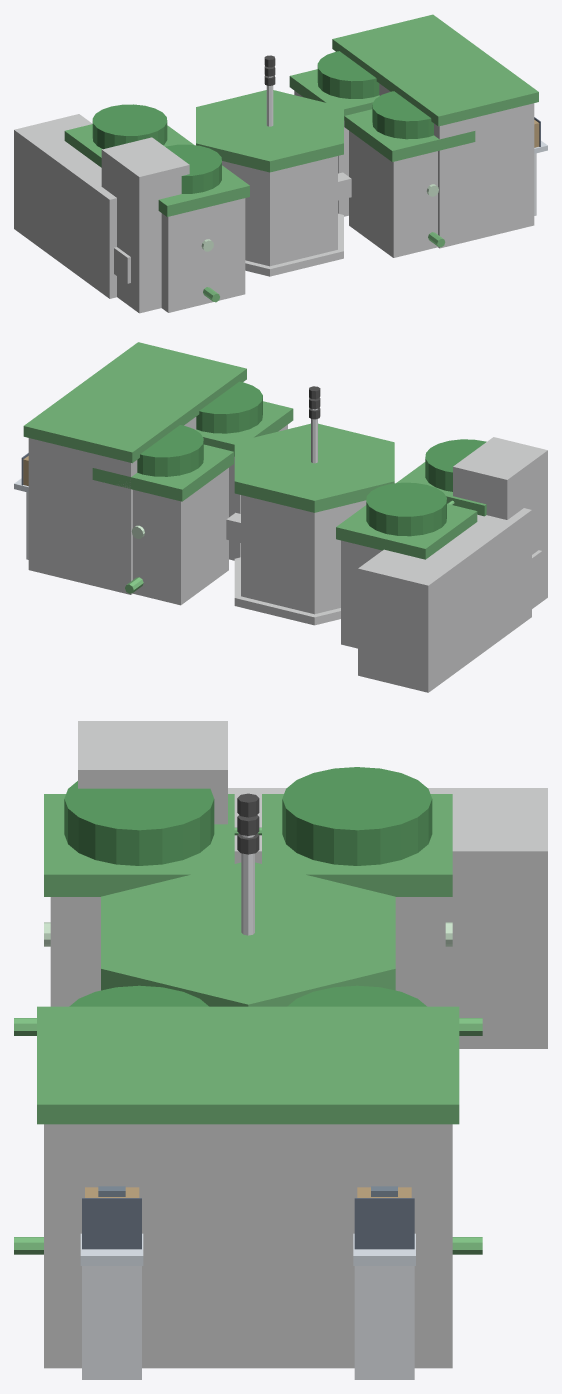
The model's file is CVD.glb.
The picture shows the model from 3 angles, top to bottom: view 1: azimuth 30°, elevation 25°; view 2: azimuth 150°, elevation 25°; view 3: azimuth 270°, elevation 25°; orthographic projection. The views are drawn at different scales.
Parts seen in each view (by area): view 1: p00063, p00033, p00032, p00002, p00001, p00058, p00004, p00018, p00027, p00005, p00013, p00006 (+7 smaller); view 2: p00063, p00033, p00032, p00002, p00001, p00011, p00058, p00027, p00026, p00012, p00006, p00013 (+6 smaller); view 3: p00032, p00033, p00002, p00063, p00027, p00058, p00020, p00026, p00019, p00035, p00047, p00018 (+8 smaller).
Part boxes in pixels (<box>): p00063: <box>14,114,116,298</box>; p00033: <box>332,14,538,126</box>; p00032: <box>379,83,534,248</box>; p00002: <box>196,90,343,172</box>; p00001: <box>222,156,337,266</box>; p00058: <box>101,137,189,313</box>; p00004: <box>349,131,437,257</box>; p00018: <box>161,198,245,312</box>; p00027: <box>92,104,167,149</box>; p00005: <box>344,109,475,161</box>; p00013: <box>317,51,379,98</box>; p00006: <box>372,91,433,139</box>; p00063: <box>358,508,531,692</box>; p00033: <box>23,342,246,463</box>; p00032: <box>28,417,196,594</box>; p00002: <box>234,423,394,512</box>; p00001: <box>241,495,366,614</box>; p00011: <box>133,468,228,605</box>; p00058: <box>453,437,547,608</box>; p00027: <box>366,482,446,536</box>; p00026: <box>336,504,477,559</box>; p00012: <box>92,444,233,501</box>; p00006: <box>196,381,262,433</box>; p00013: <box>137,425,203,476</box>; p00032: <box>44,1124,452,1368</box>; p00033: <box>37,1006,459,1124</box>; p00002: <box>101,862,395,1006</box>; p00063: <box>228,788,547,1048</box>; p00027: <box>282,767,432,865</box>; p00058: <box>78,721,227,824</box>; p00020: <box>64,781,214,865</box>; p00026: <box>262,794,452,896</box>; p00019: <box>44,794,234,896</box>; p00035: <box>354,1266,414,1379</box>; p00047: <box>82,1266,141,1379</box>; p00018: <box>50,897,100,1006</box>.
Size of the model in its own units: 7.03 by 2.95 by 3.92.
